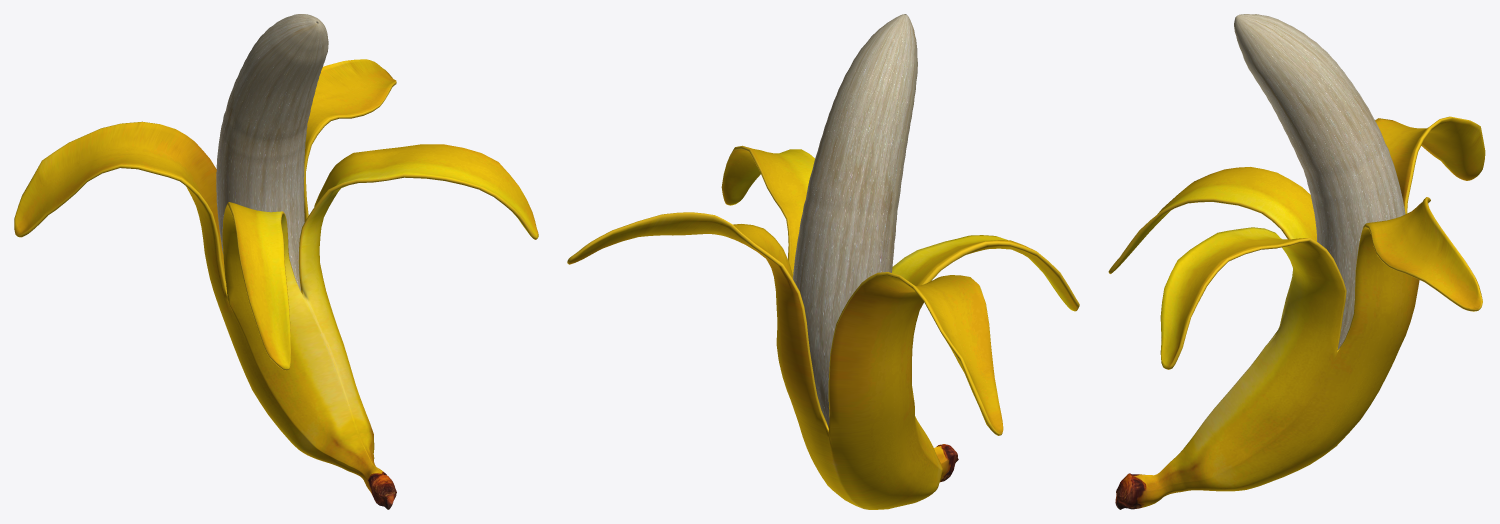
File: BananaTest1.dae
The picture shows the model from 3 angles, left to right: view 1: azimuth 30°, elevation 25°; view 2: azimuth 150°, elevation 25°; view 3: azimuth 270°, elevation 25°; orthographic projection. The views are drawn at different scales.
Parts seen in each view (by area): view 1: Plane, Plane_003; view 2: Plane, Plane_003; view 3: Plane, Plane_003.
Boxes of the visible parts, box(x1,y1,x2,y2) form: Plane: box(14, 59, 538, 509); Plane_003: box(216, 14, 328, 290); Plane: box(567, 145, 1079, 509); Plane_003: box(793, 14, 917, 427); Plane: box(1108, 116, 1485, 509); Plane_003: box(1234, 14, 1405, 349).
Bounding box in the file's own units: 6.73 × 5.35 × 7.61.
Materials: 2 (2 with a texture image).
